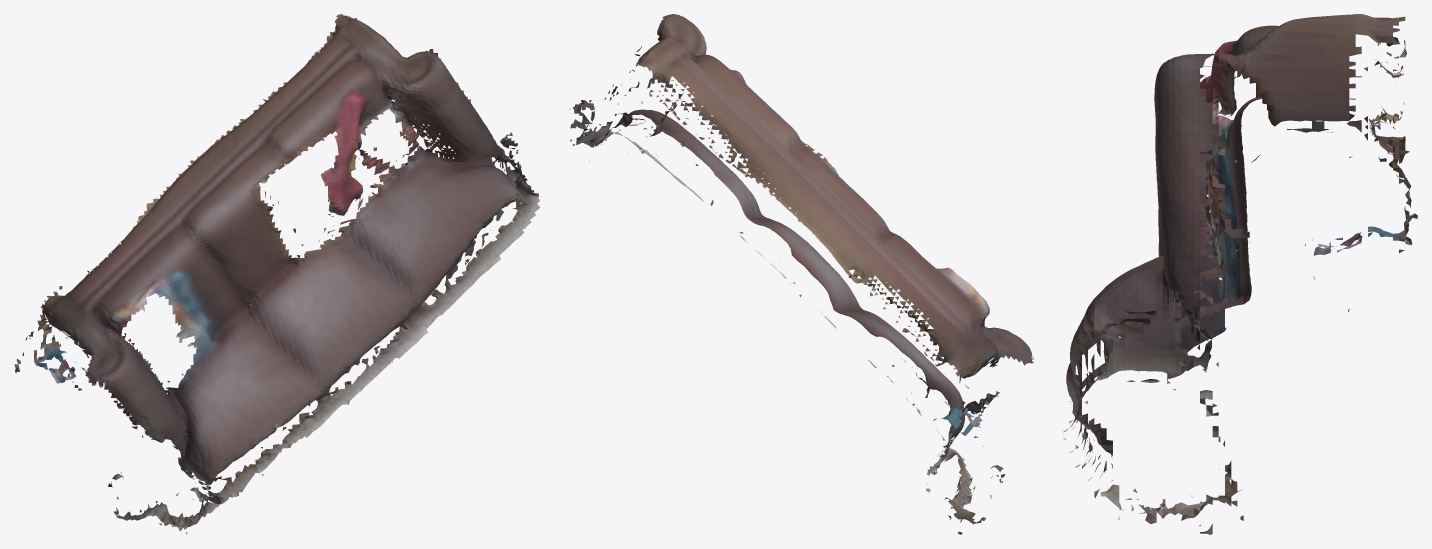
The model's file is longsofa.glb.
3 views of the same model, side by side, from view 1: azimuth 30°, elevation 25°; view 2: azimuth 150°, elevation 25°; view 3: azimuth 270°, elevation 25° (orthographic). The views are drawn at different scales.
Parts seen in each view (by area): view 1: tsdf_frame3398_obj2.obj; view 2: tsdf_frame3398_obj2.obj; view 3: tsdf_frame3398_obj2.obj.
Part boxes in pixels (x1,y1,x2,y2): tsdf_frame3398_obj2.obj: (14,14,540,534); tsdf_frame3398_obj2.obj: (569,14,1033,534); tsdf_frame3398_obj2.obj: (1063,14,1417,534).
Bounding box in the file's own units: 2.25 × 2.01 × 0.8906.
